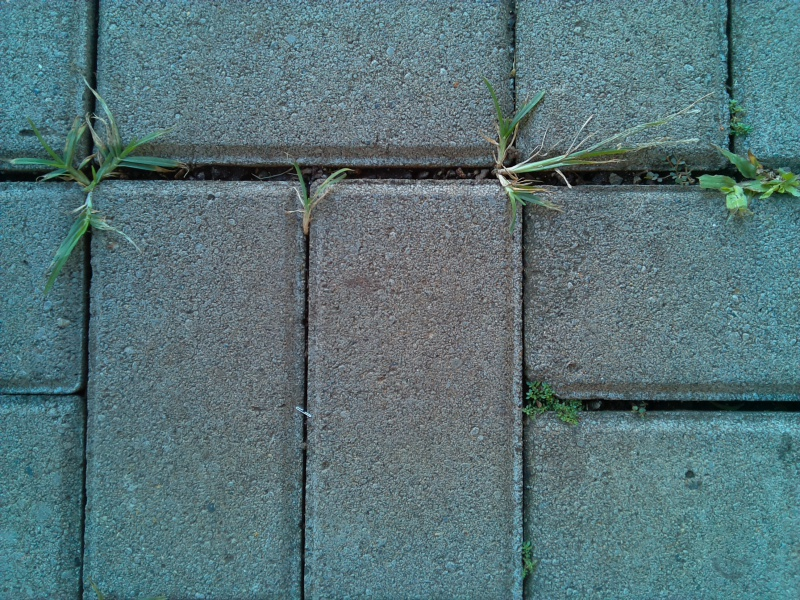Weed: (505, 89, 667, 196), (44, 182, 127, 301), (91, 85, 189, 182), (698, 143, 800, 217), (476, 72, 535, 165), (11, 118, 89, 186), (486, 165, 554, 235), (276, 166, 343, 237), (520, 371, 584, 437), (516, 538, 541, 584), (722, 117, 757, 145), (627, 391, 654, 425), (722, 94, 748, 118)
